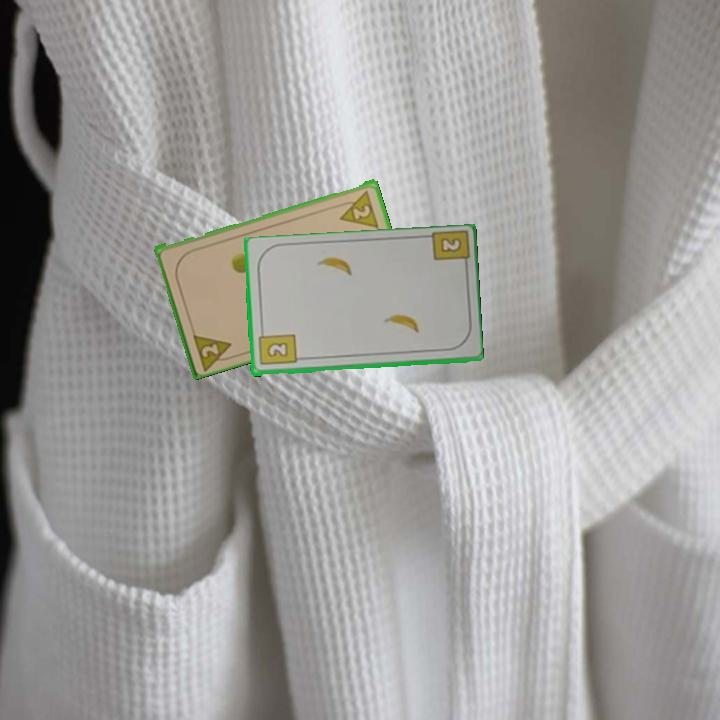2b: (255, 326, 298, 368), (436, 234, 464, 256)
2p: (189, 328, 238, 372), (333, 186, 381, 230)
